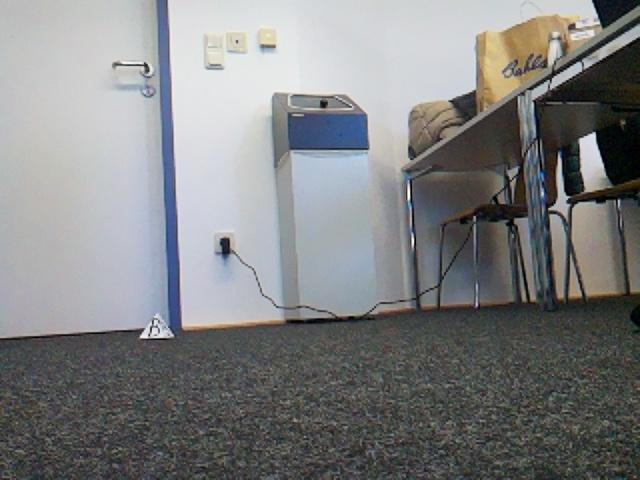B: (139, 313, 173, 338)
